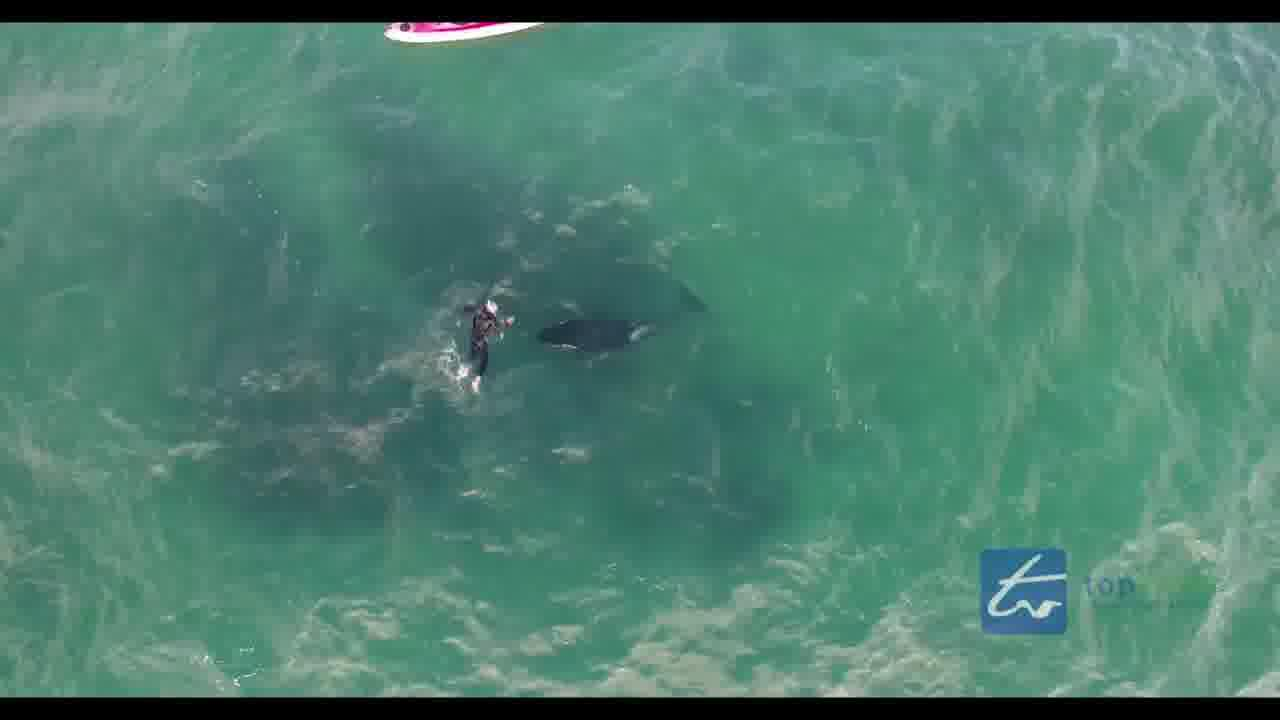human: (454, 292, 516, 396)
